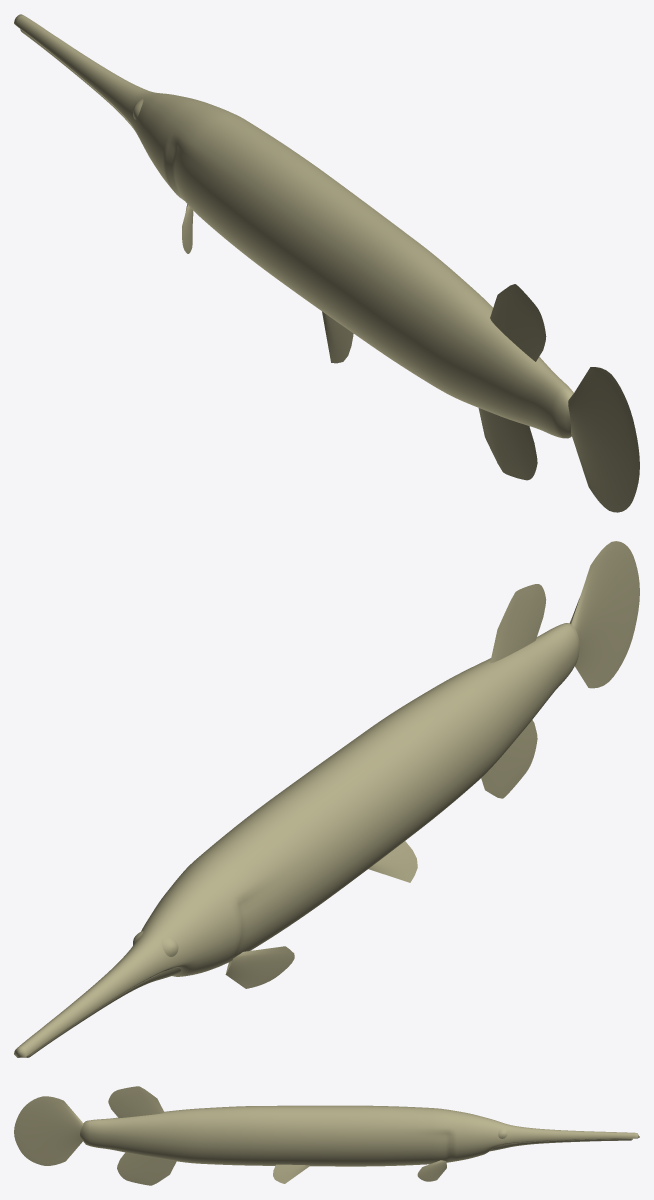
File: gar.glb
3 views of the same model, one above another, from view 1: azimuth 30°, elevation 25°; view 2: azimuth 150°, elevation 25°; view 3: azimuth 270°, elevation 25° (orthographic). The views are drawn at different scales.
Parts seen in each view (by area): view 1: gar; view 2: gar; view 3: gar.
Boxes of the visible parts, x1,y1,x2,y2 form: gar: [14, 14, 639, 512]; gar: [14, 541, 639, 1057]; gar: [14, 1086, 639, 1185].
Bounding box in the file's own units: 0.1346 × 0.2265 × 1.29.
